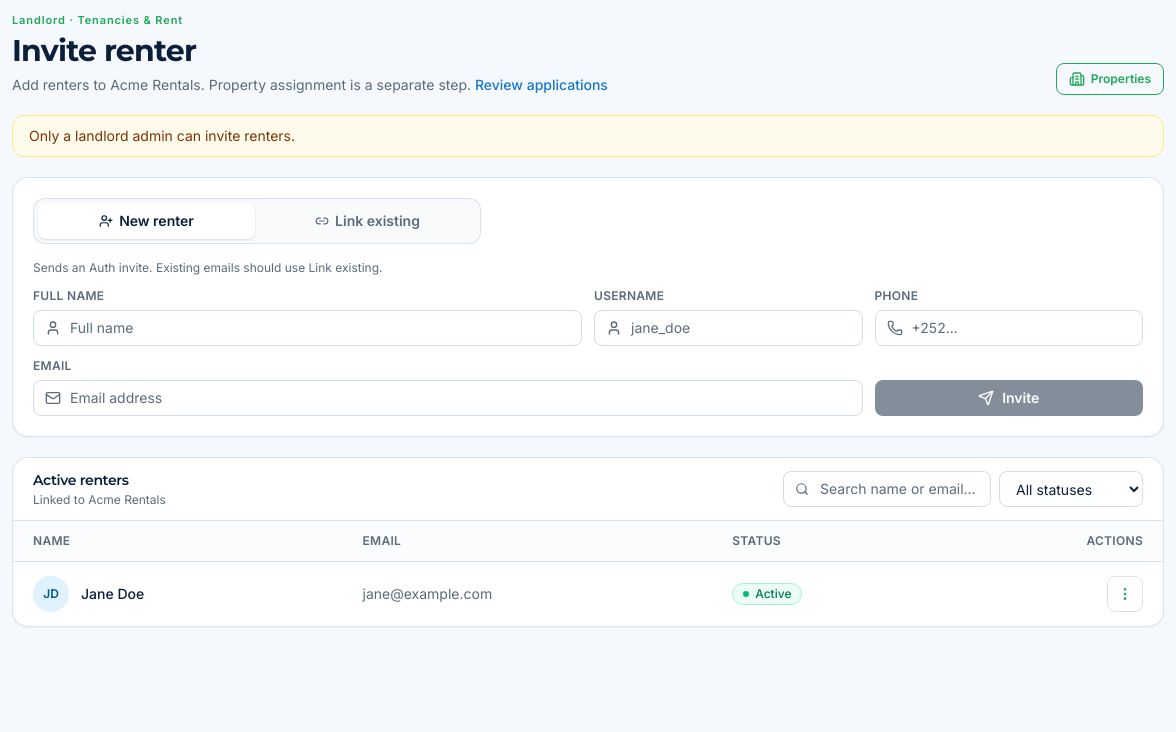
Scenario: InviteRenterPage › hides Delete for landlord_staff while keeping View and Edit
Click the button named "actions for jane doe" at (1125, 594), box [1107, 576, 1143, 612]
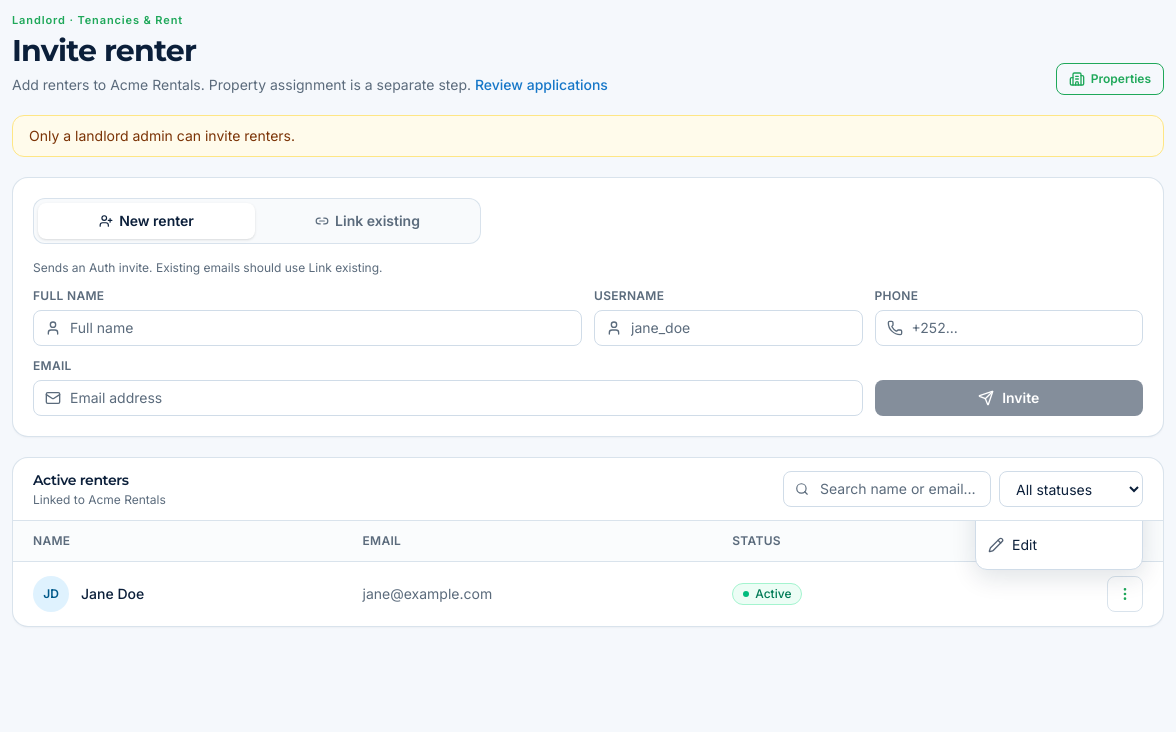
Check: the menu item "Edit" is shown, box [976, 524, 1142, 564]
